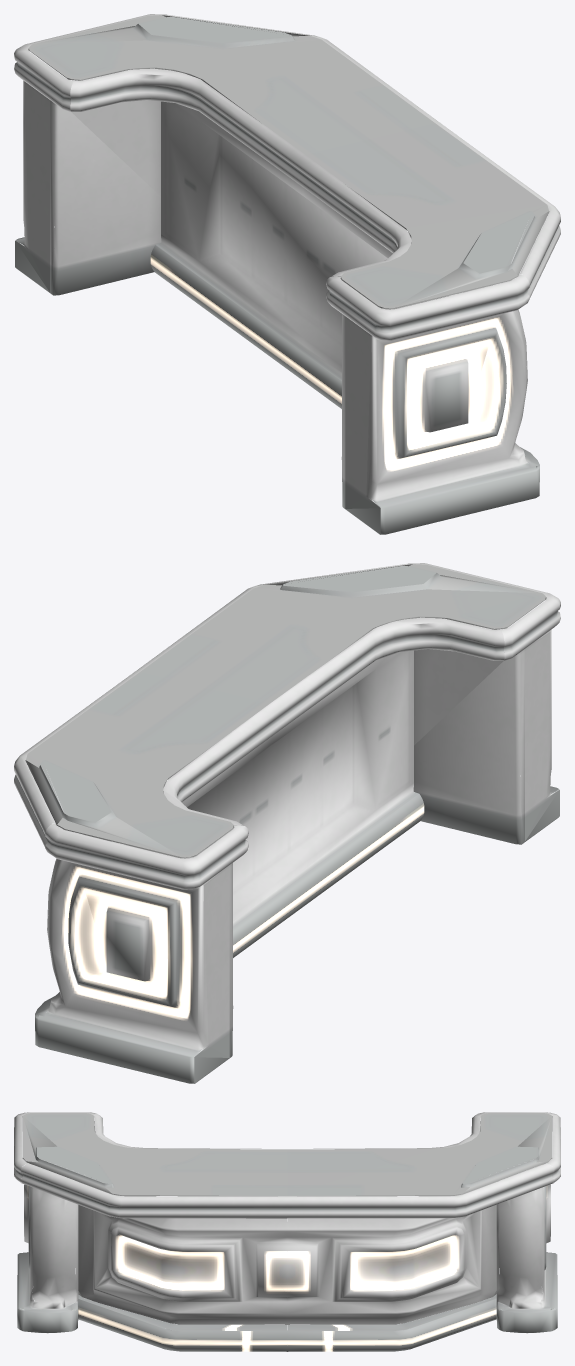
Rendered from bar_counter_5_a.glb.
3 renders of one model, top to bottom at view 1: azimuth 30°, elevation 25°; view 2: azimuth 150°, elevation 25°; view 3: azimuth 270°, elevation 25°, orthographic. The views are drawn at different scales.
Parts seen in each view (by area): view 1: bar_counter_5; view 2: bar_counter_5; view 3: bar_counter_5.
Part boxes in pixels (<box>): bar_counter_5: <box>14,14,560,534</box>; bar_counter_5: <box>14,563,560,1083</box>; bar_counter_5: <box>14,1112,560,1351</box>.
Size of the model in its own units: 1.29 by 1.12 by 3.35.
1 material, 1 textured.
